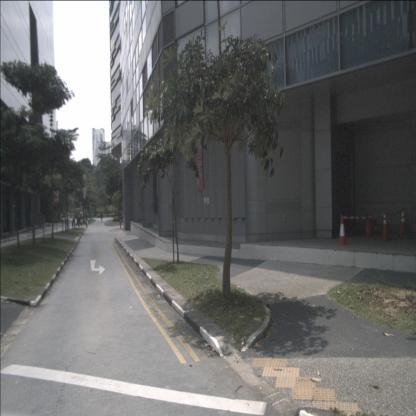cone: (336, 214, 349, 246), (379, 211, 391, 241), (398, 207, 408, 234)
